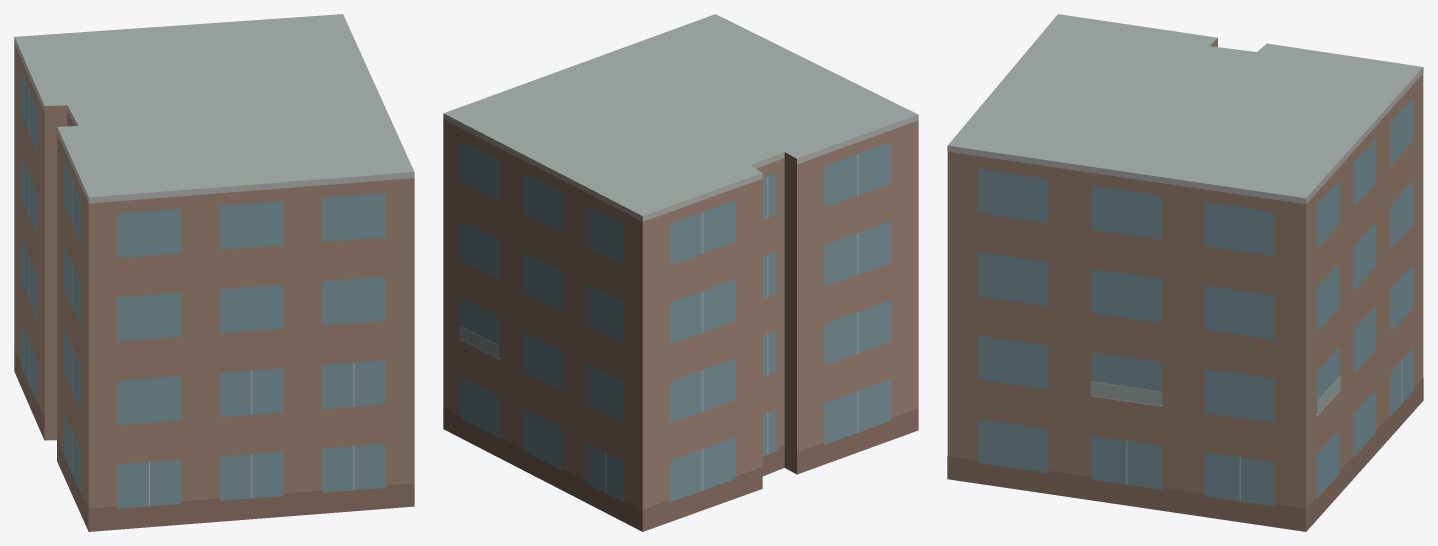
Rendered from survey-upis-32894344.glb.
3 views of the same model, side by side, from view 1: azimuth 30°, elevation 25°; view 2: azimuth 150°, elevation 25°; view 3: azimuth 270°, elevation 25° (orthographic). The views are drawn at different scales.
Parts seen in each view (by area): view 1: survey-upis-32894344.tmp; view 2: survey-upis-32894344.tmp; view 3: survey-upis-32894344.tmp.
Part boxes in pixels (x1,y1,x2,y2): survey-upis-32894344.tmp: [14, 14, 414, 531]; survey-upis-32894344.tmp: [443, 14, 918, 531]; survey-upis-32894344.tmp: [947, 14, 1423, 531].
Bounding box in the file's own units: 16.01 × 13.5 × 17.47.
